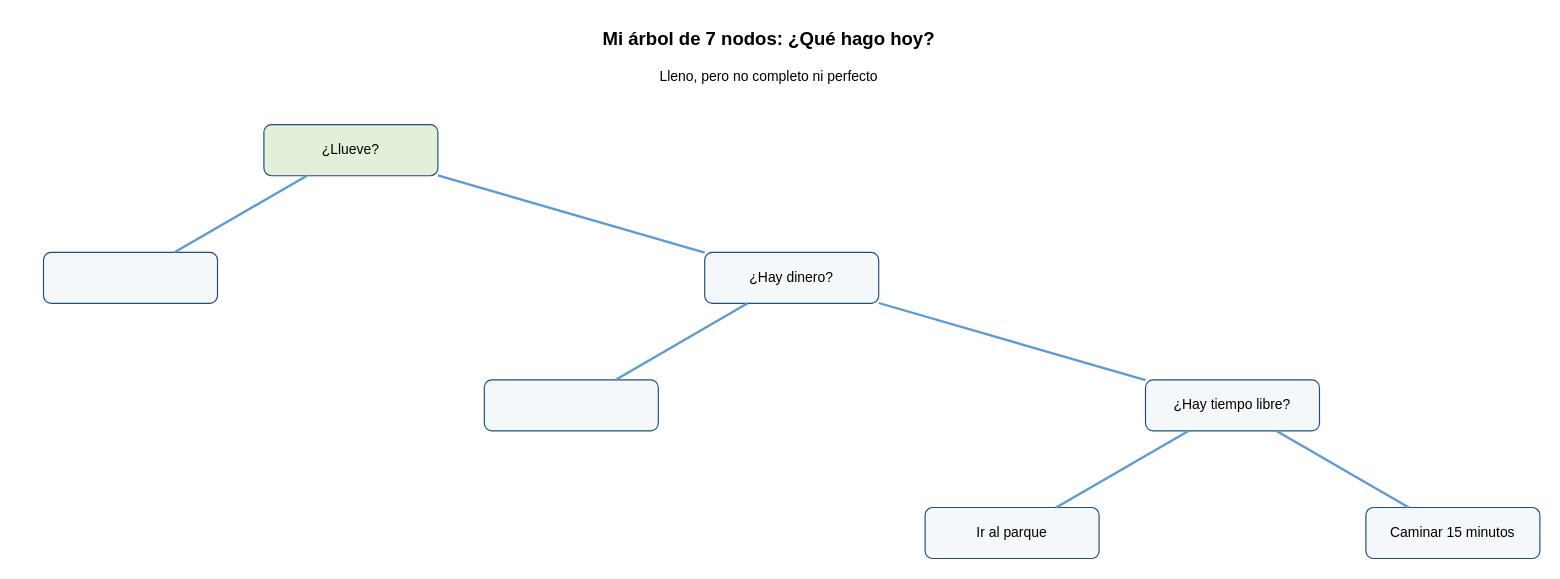
Some shapes in this 1560 by 579 pixel diagram are drawn without their labels. Here are the shapes that lost their labels. From the top down, the centre of each, then its label:
At pixel 129 277: "Quedarse en casa".
At pixel 570 405: "Ir al cine".
